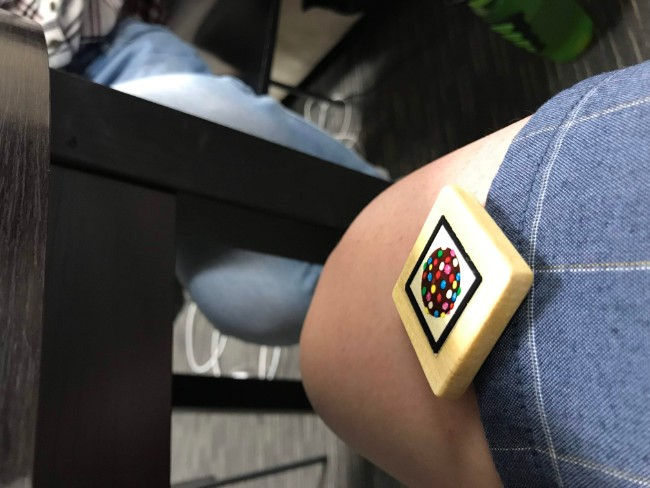cookie: (391, 179, 540, 401)
